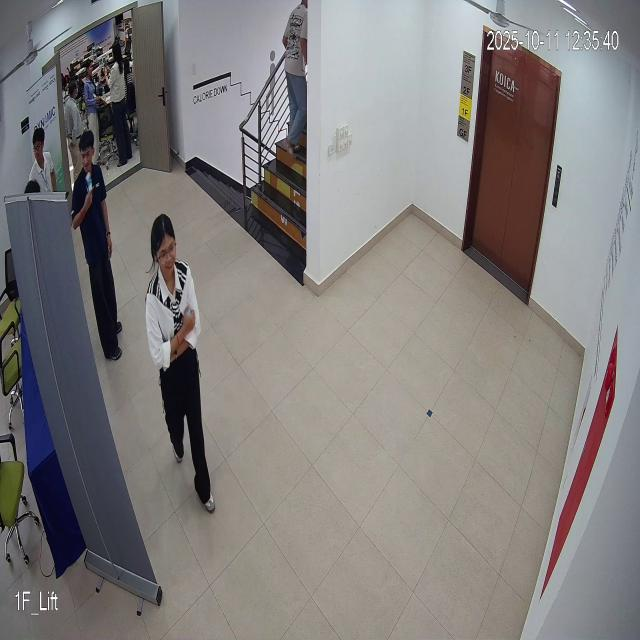face: (145, 207, 188, 282), (77, 127, 95, 177)
